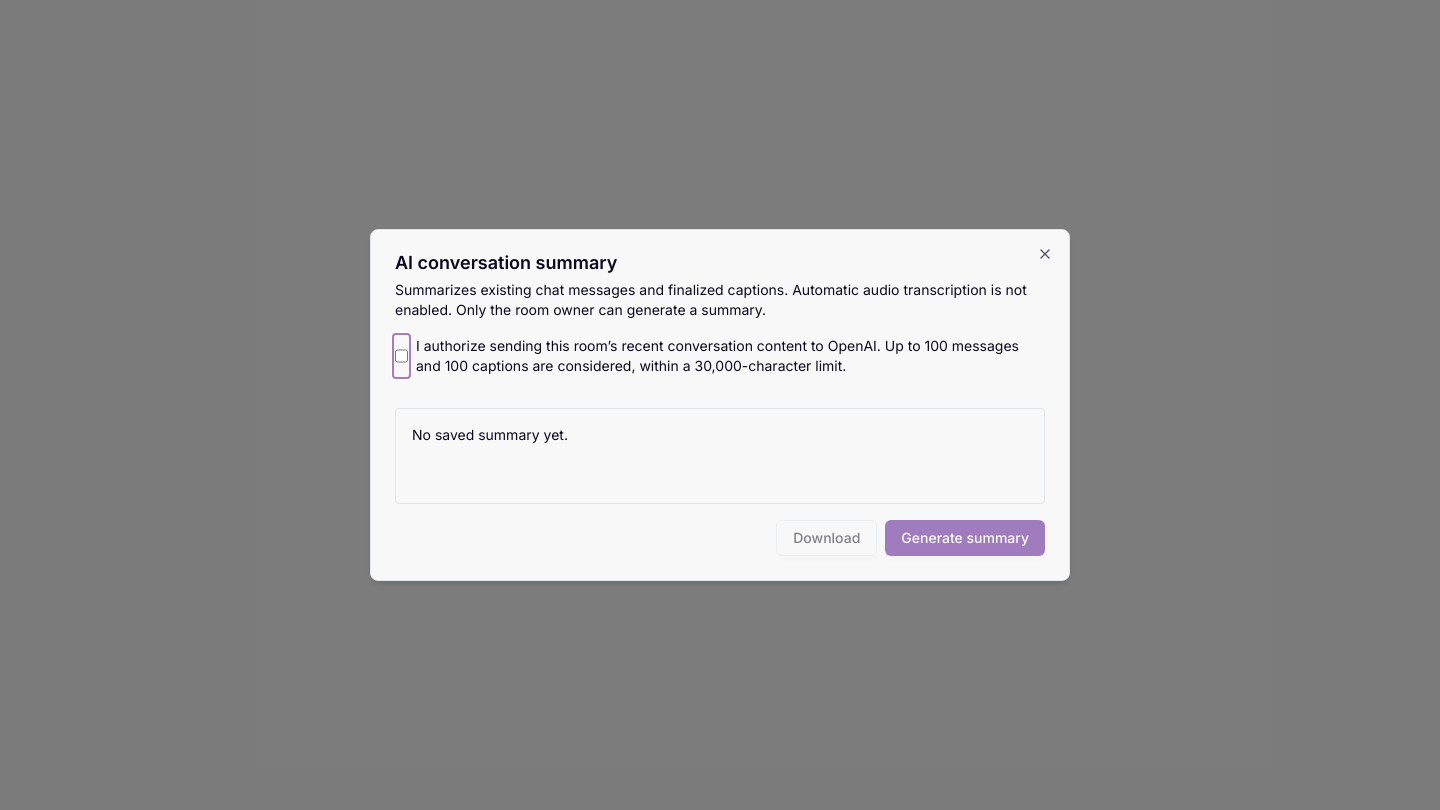
Test: partial output without saved receipt is not downloadable
Click the checkbox.
click(402, 356)  # box [395, 336, 408, 376]
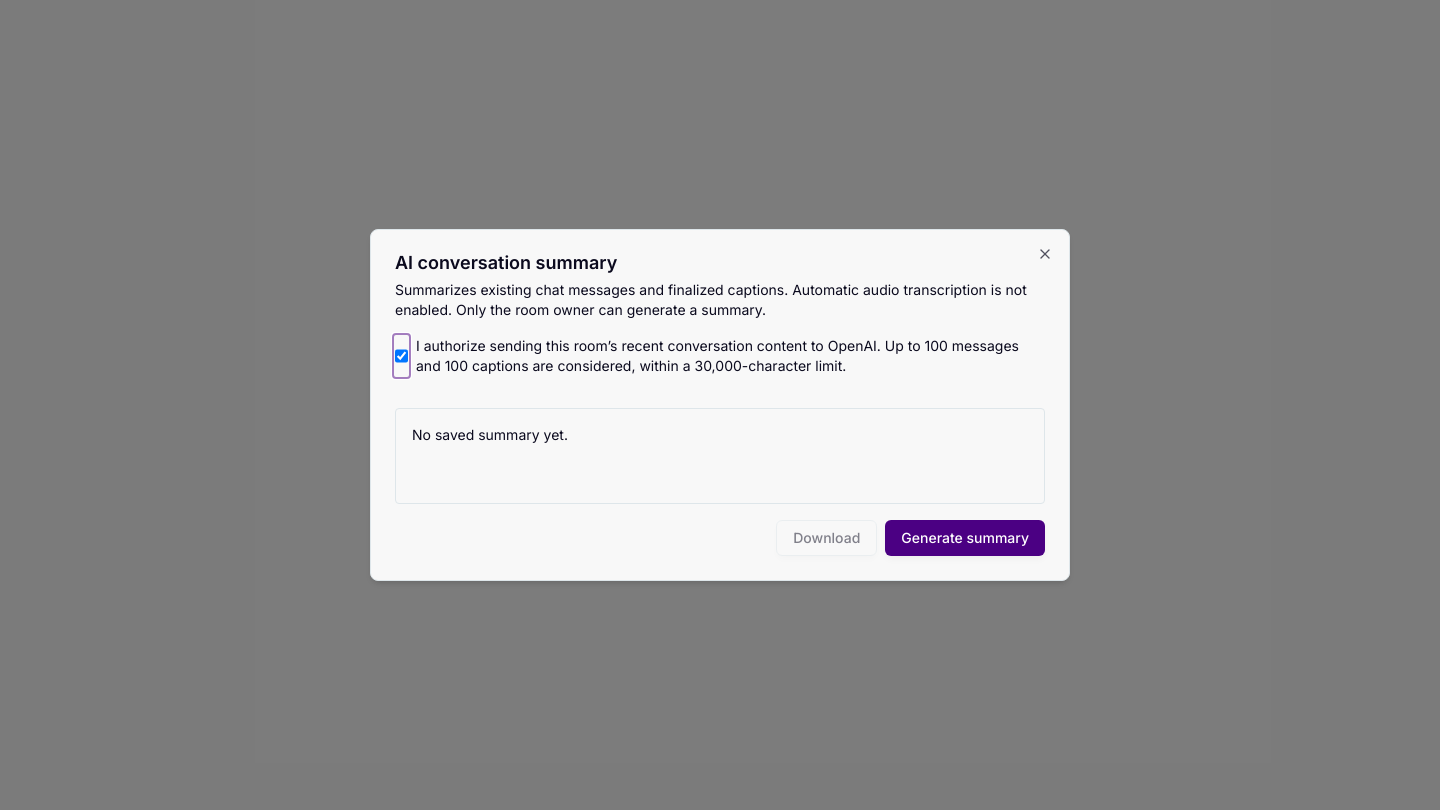
Click the button "Generate summary".
click(965, 538)  # box [885, 520, 1045, 556]
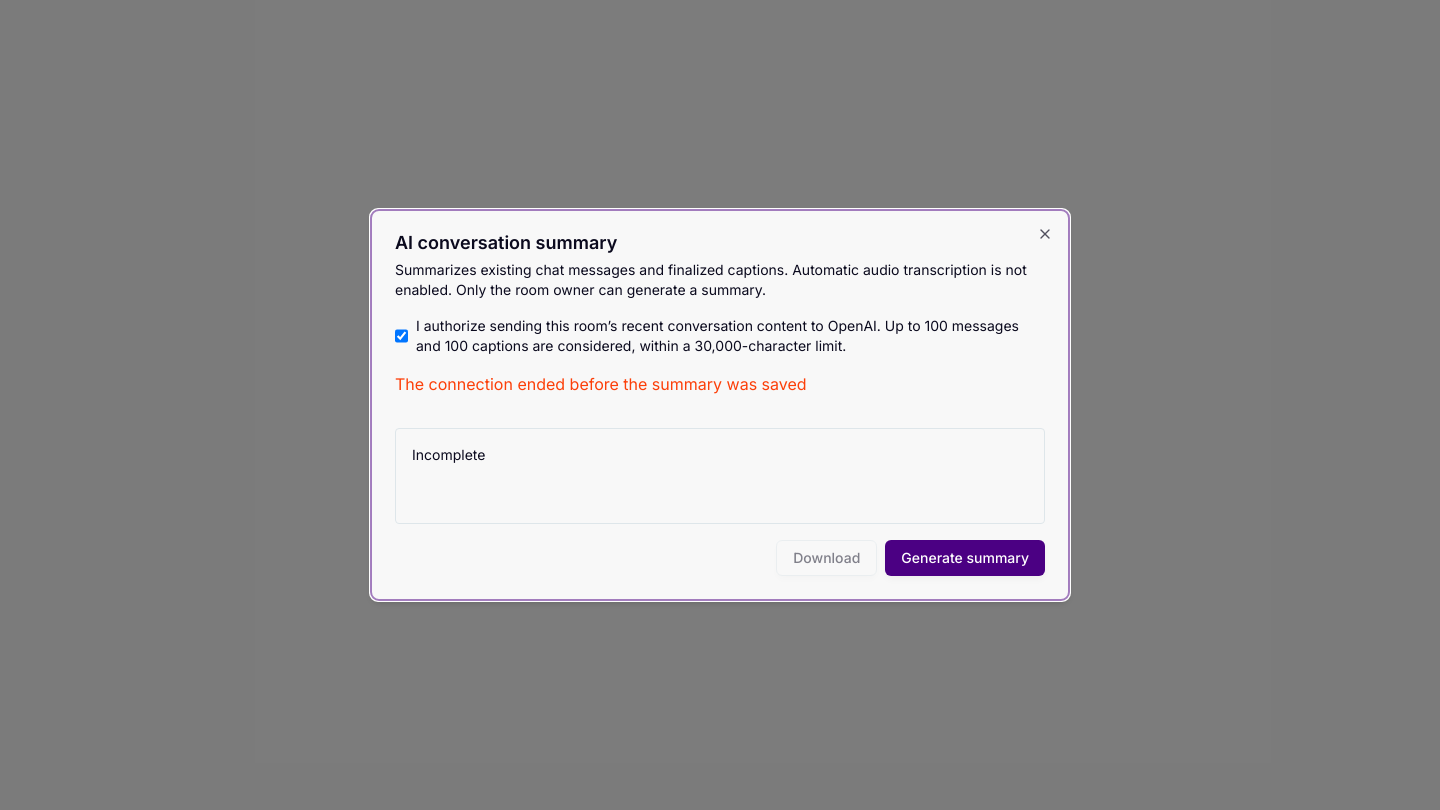
Expected: the button "Download" is disabled, [776, 540, 877, 576]
Now the message shows "before the summary was saved", box [395, 374, 807, 394]
